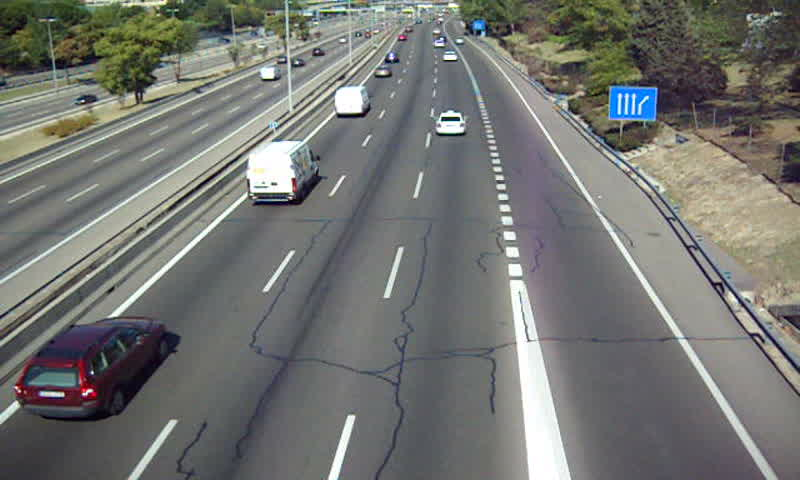car: (15, 319, 166, 420), (435, 111, 465, 136), (373, 66, 392, 80), (442, 51, 459, 64), (384, 51, 399, 65)
van: (246, 141, 321, 202), (335, 87, 369, 117)
